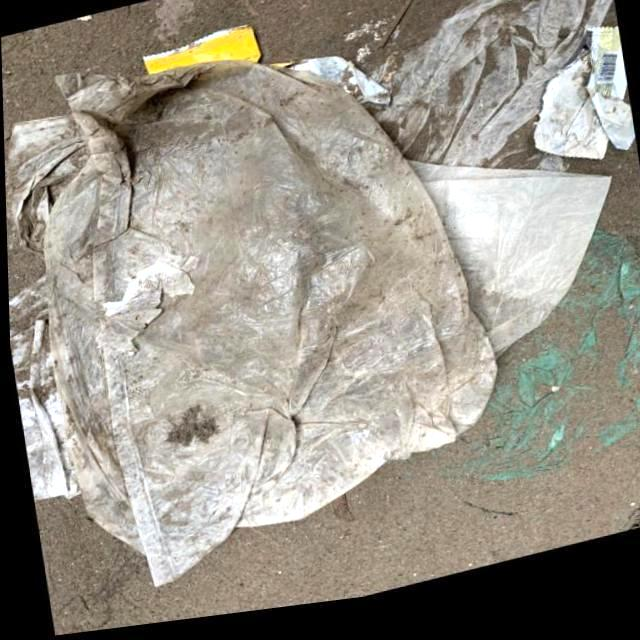polythene: (78, 89, 456, 456)
